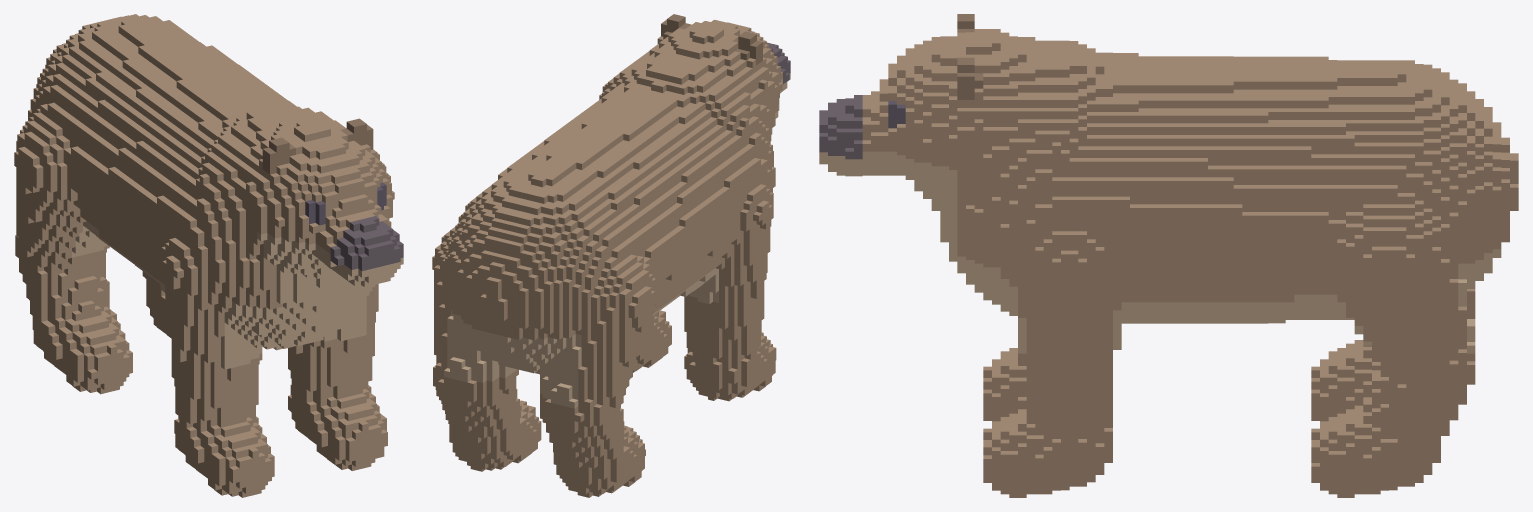
Rendered from bear.glb.
The picture shows the model from 3 angles, left to right: view 1: azimuth 30°, elevation 25°; view 2: azimuth 150°, elevation 25°; view 3: azimuth 270°, elevation 25°; orthographic projection. The views are drawn at different scales.
Visible parts, largest first — view 1: item; view 2: item; view 3: item.
Part boxes in pixels (box(x1,y1,x2,y2)): item: box(14, 14, 403, 497); item: box(432, 14, 790, 497); item: box(819, 14, 1518, 497).
Bounding box in the file's own units: 34 × 53 × 81.
